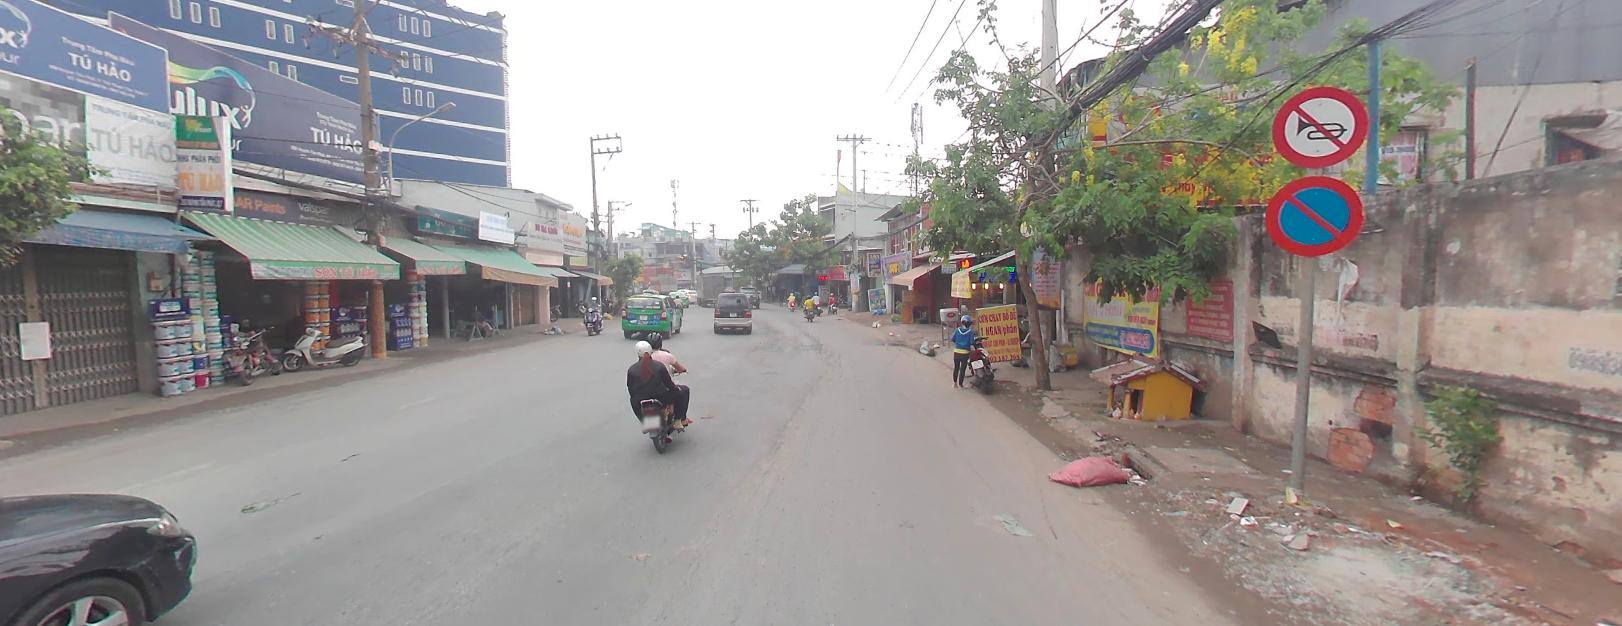Cam con lai: (1268, 85, 1368, 168)
Cam dung va do: (1260, 171, 1365, 256)
